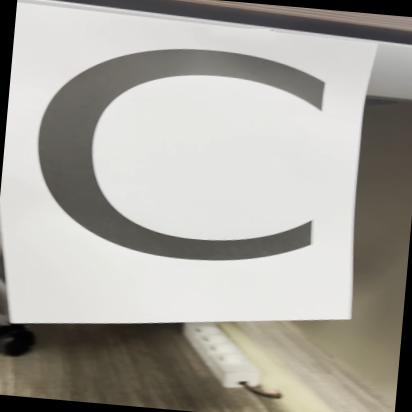seat: (0, 0, 367, 346)
